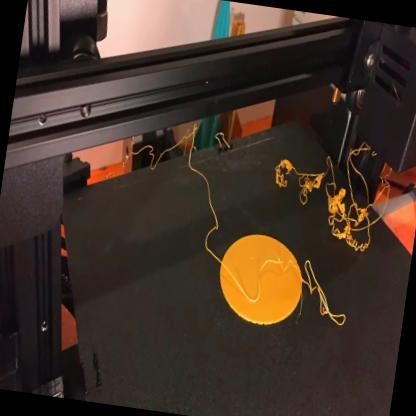fail: (261, 125, 399, 254), (297, 256, 357, 335)
